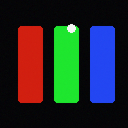0 point: (67, 24, 75, 32)
